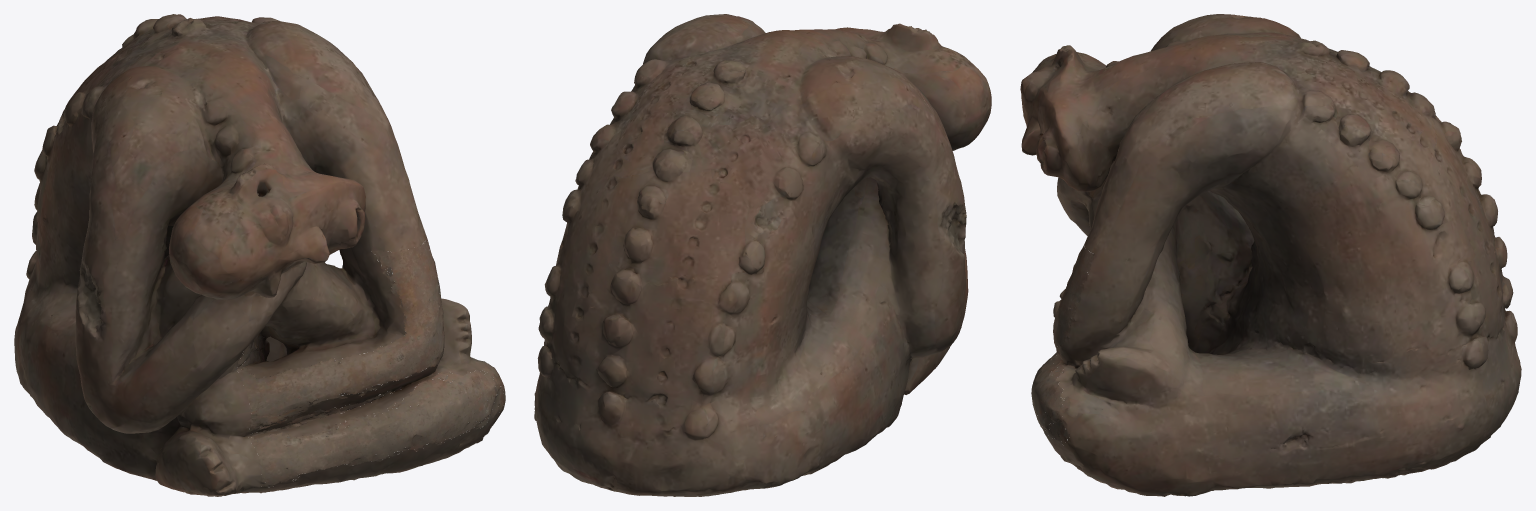
File: preview.glb
3 renders of one model, left to right at view 1: azimuth 30°, elevation 25°; view 2: azimuth 150°, elevation 25°; view 3: azimuth 270°, elevation 25°, orthographic. The views are drawn at different scales.
Parts seen in each view (by area): view 1: ADVIMG_1981_218_SeatedFigure_LOD0_ADVIMG_1981_218_SeatedFigu (×2); view 2: ADVIMG_1981_218_SeatedFigure_LOD0_ADVIMG_1981_218_SeatedFigu; view 3: ADVIMG_1981_218_SeatedFigure_LOD0_ADVIMG_1981_218_SeatedFigu (×2).
Boxes of the visible parts, x1,y1,x2,y2 form: ADVIMG_1981_218_SeatedFigure_LOD0_ADVIMG_1981_218_SeatedFigu (×2): (14,14,505,496); ADVIMG_1981_218_SeatedFigure_LOD0_ADVIMG_1981_218_SeatedFigu: (534,14,991,496); ADVIMG_1981_218_SeatedFigure_LOD0_ADVIMG_1981_218_SeatedFigu (×2): (1020,14,1521,496).
Size of the model in its own units: 0.2467 by 0.2548 by 0.3052.
Materials: 2 (2 with a texture image).
